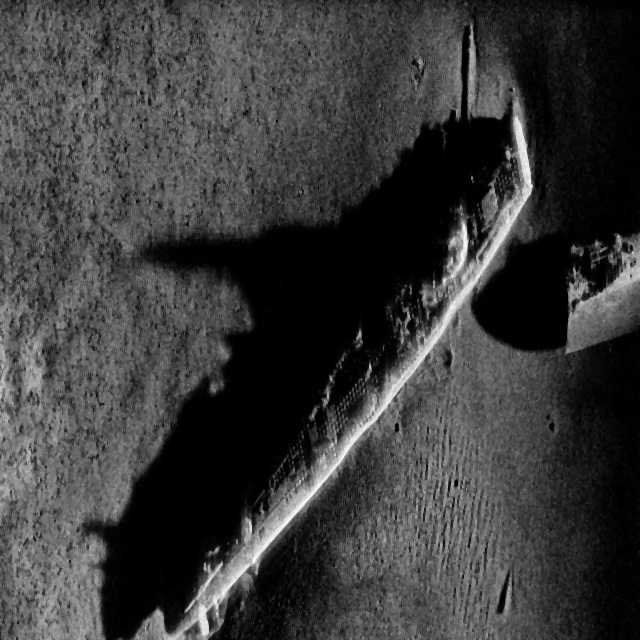Ship: (107, 47, 537, 640)
